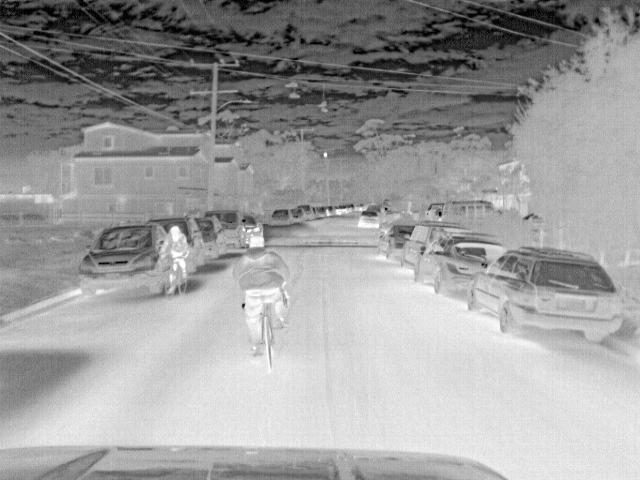car: (467, 248, 625, 344), (76, 222, 170, 296), (412, 235, 506, 299), (398, 222, 465, 271), (203, 210, 242, 252), (192, 216, 227, 258), (377, 222, 412, 260), (449, 199, 499, 219), (242, 213, 265, 247), (520, 210, 548, 229), (355, 208, 381, 228), (268, 209, 292, 226), (425, 200, 444, 218), (290, 207, 307, 223), (298, 204, 315, 220), (312, 207, 326, 220)
person: (237, 233, 288, 359), (160, 223, 191, 288)
